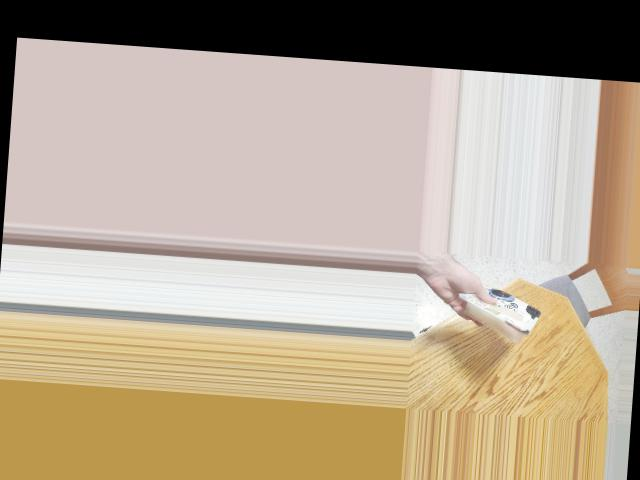cheese: (468, 274, 539, 342)
